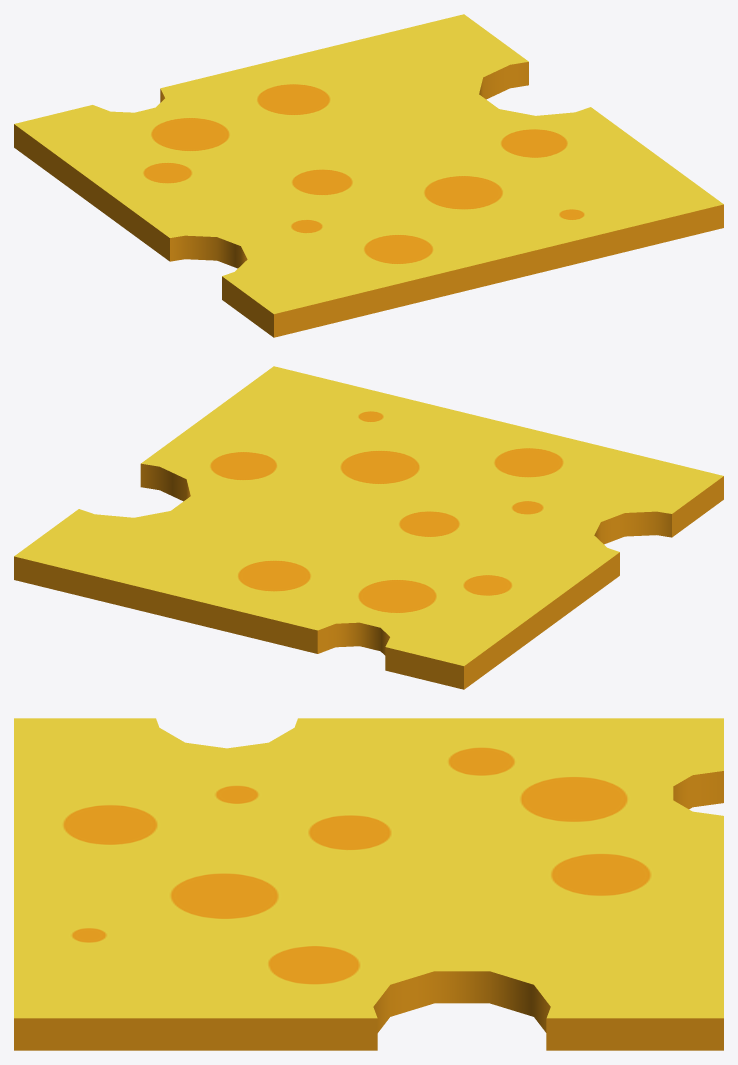
File: Cheese_Slice.glb
3 views of the same model, one above another, from view 1: azimuth 30°, elevation 25°; view 2: azimuth 150°, elevation 25°; view 3: azimuth 270°, elevation 25° (orthographic). The views are drawn at different scales.
Parts seen in each view (by area): view 1: Cheese_Slice; view 2: Cheese_Slice; view 3: Cheese_Slice.
Boxes of the visible parts, left/top/right/bottom form: Cheese_Slice: left=14, top=14, right=723, bottom=337; Cheese_Slice: left=14, top=366, right=723, bottom=689; Cheese_Slice: left=14, top=718, right=723, bottom=1050.
Bounding box in the file's own units: 20 × 1 × 20.
1 material, 1 textured.
